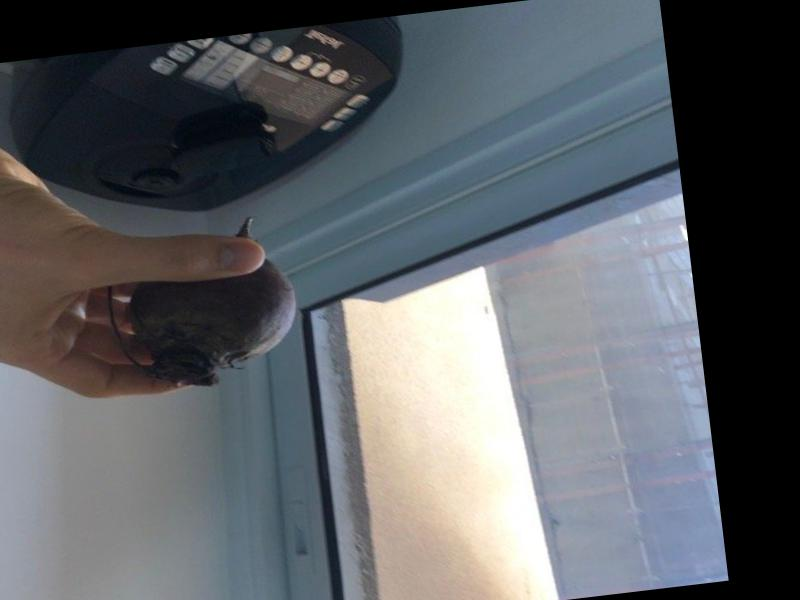Beet: (102, 213, 304, 396)
